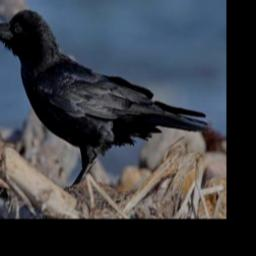Crow: (0, 9, 212, 194)
